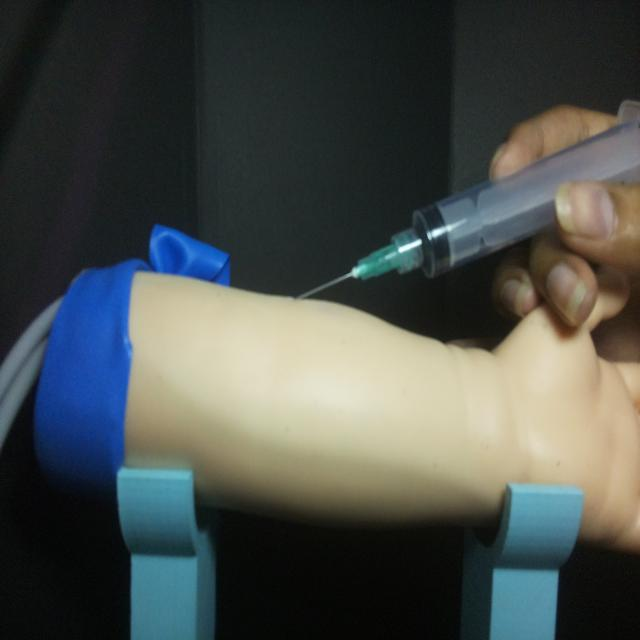16deg: (290, 101, 638, 305)
